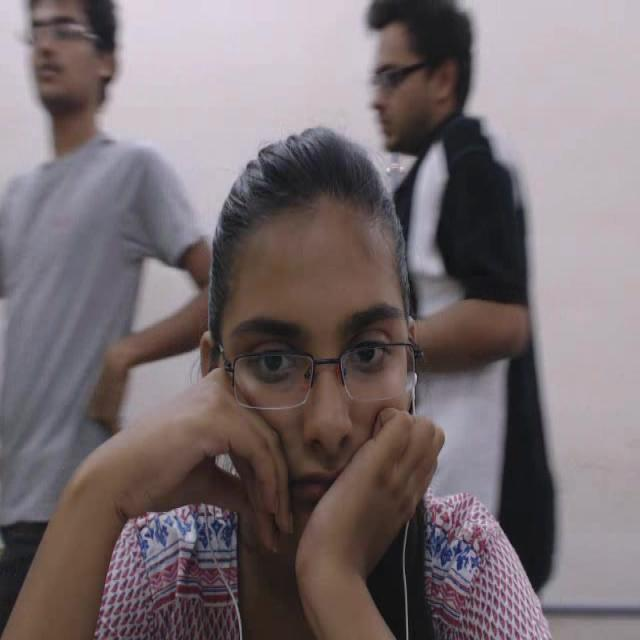Bored: (189, 108, 435, 618)
